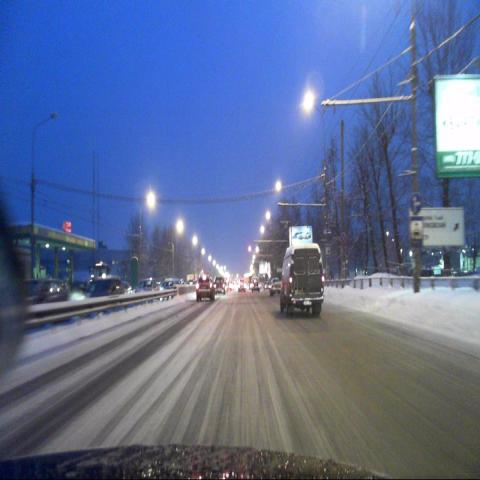4_1_4: (410, 192, 421, 214)
